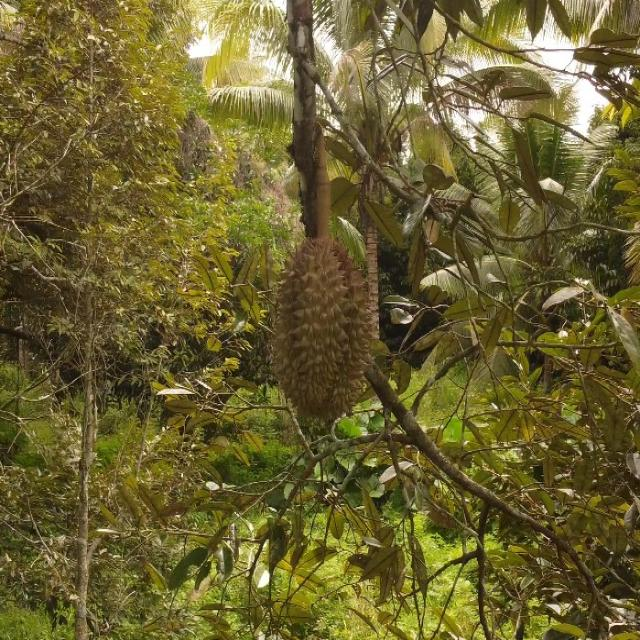mature: (270, 237, 376, 426)
